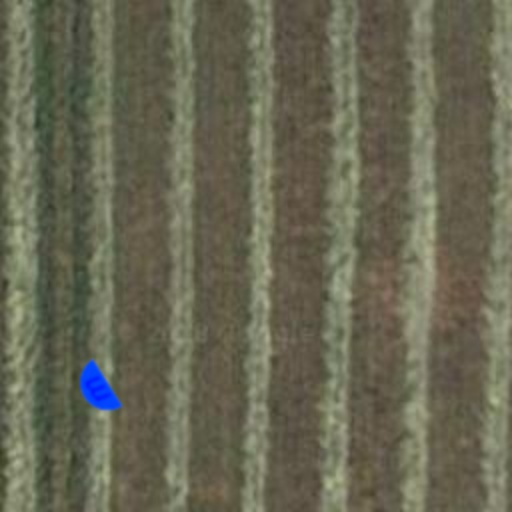semicircle: (56, 350, 136, 430)
